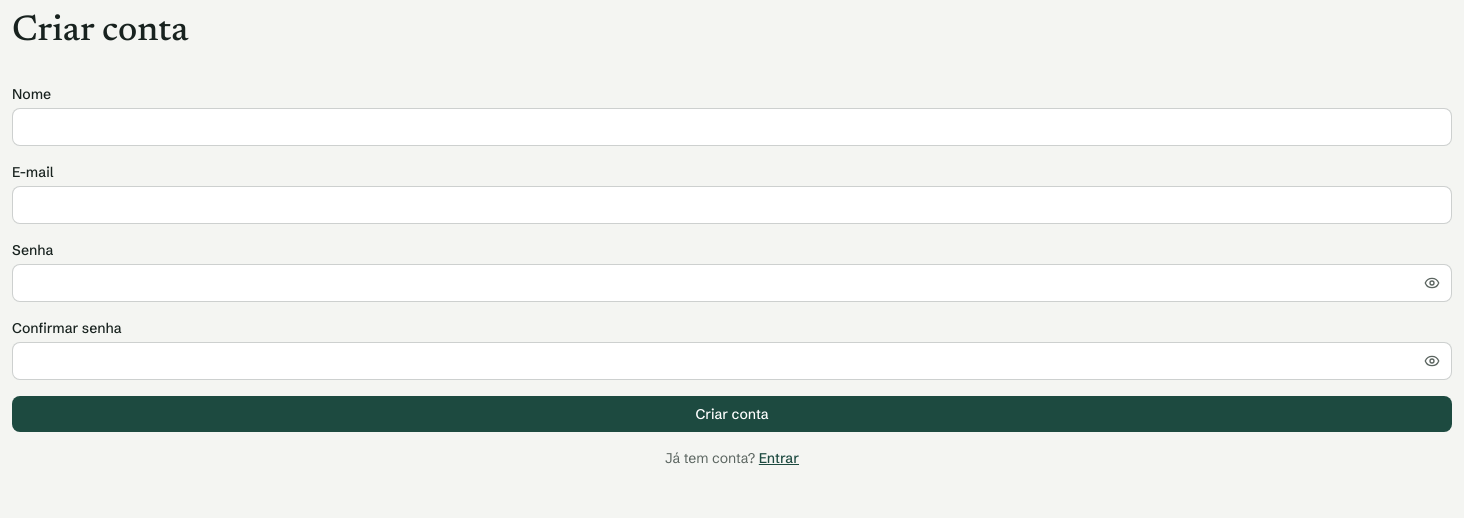
Test: RegisterPage › stays on the form and shows the server message when sign-up is rejected
Type "Ana" into the field labelled "Nome" at [732, 127], box [12, 108, 1452, 146]
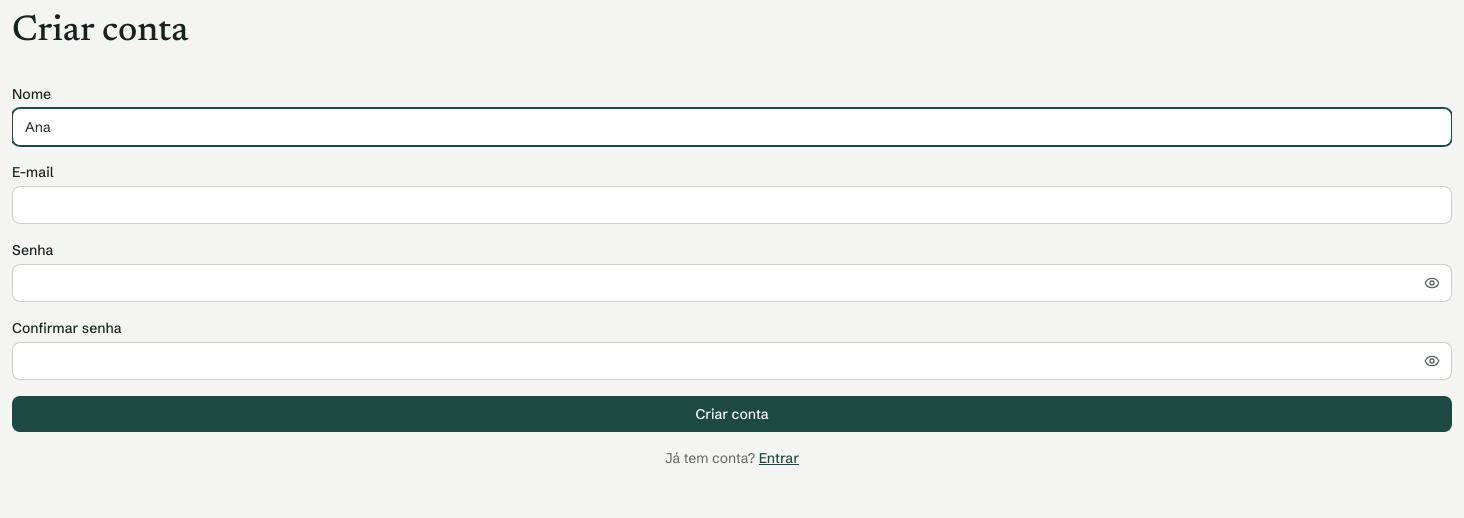
Type "ana@example.com" into the field labelled "E-mail" at [732, 205], box [12, 186, 1452, 224]
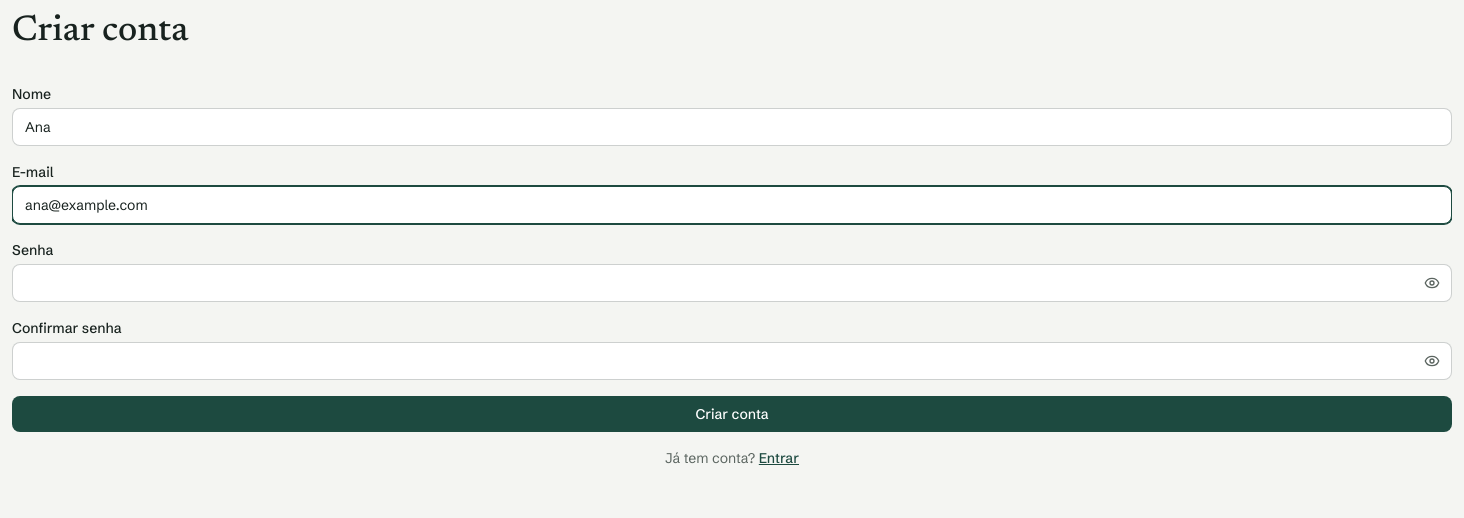
Type "SenhaForte123" into the password field labelled "Senha" at [732, 283], box [12, 264, 1452, 302]
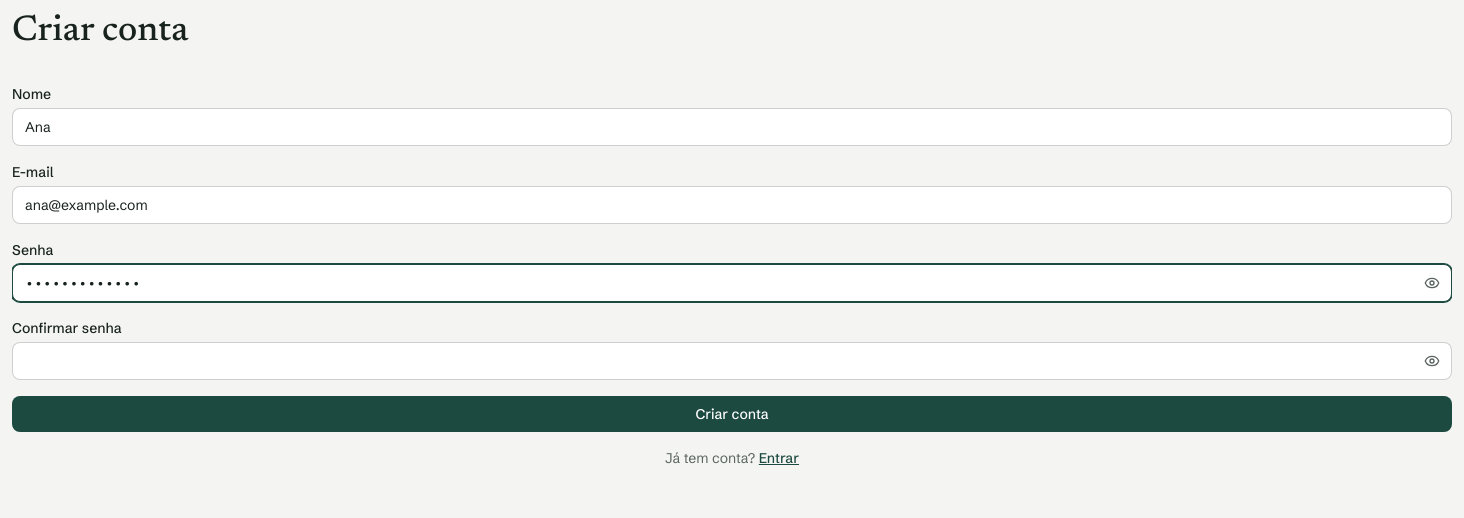
Type "SenhaForte123" into the password field labelled "Confirmar senha" at [732, 361], box [12, 342, 1452, 380]
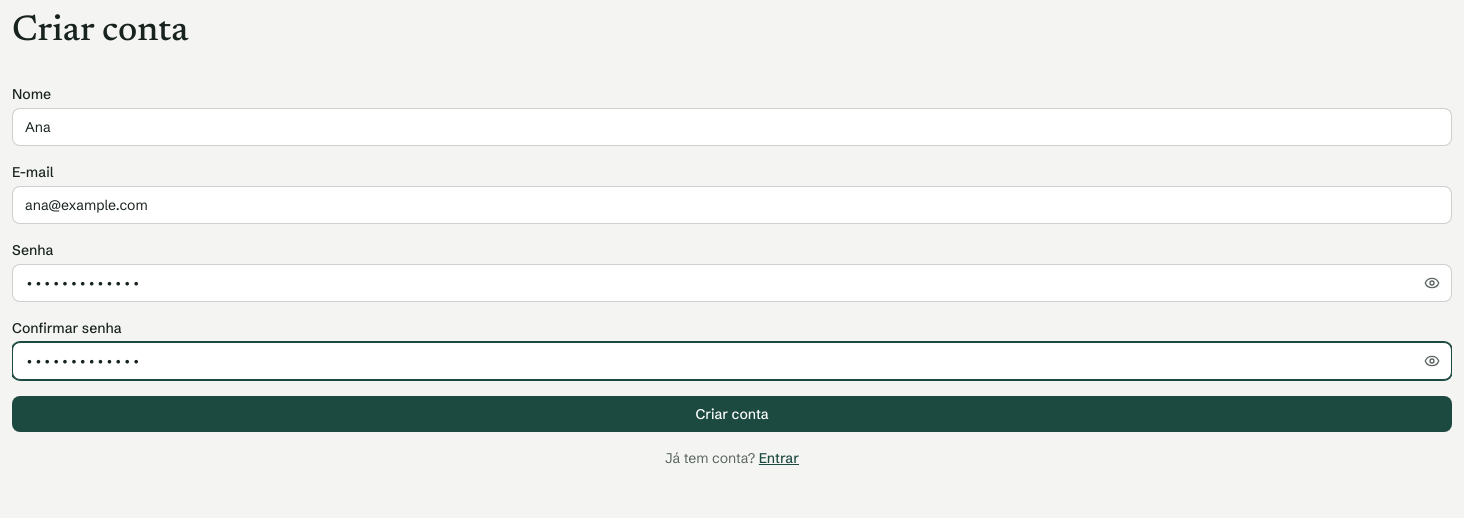
Click the button "Criar conta" at [732, 414], box [12, 396, 1452, 432]
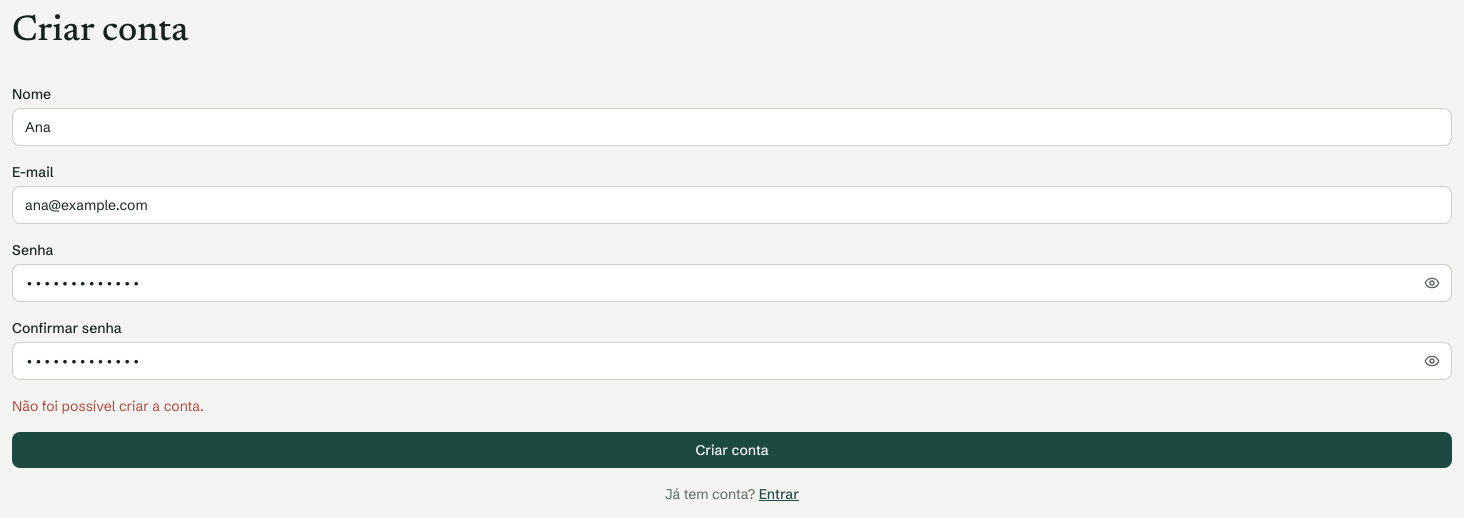
Expected: the text "Não foi possível criar a conta." is shown, [12, 397, 204, 415]
